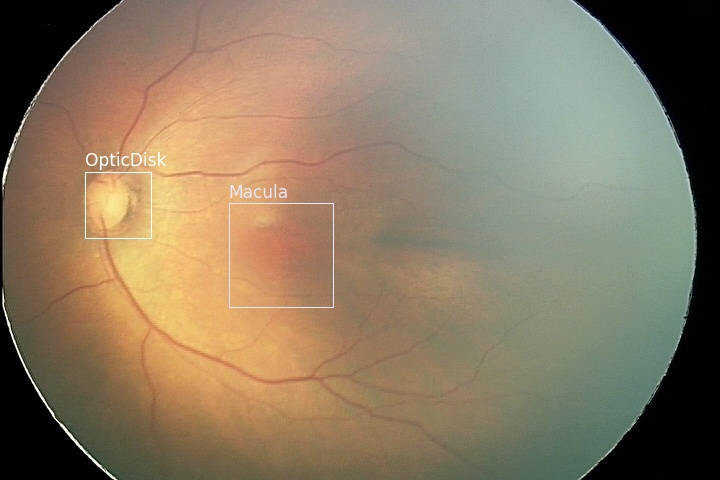Macula: (228, 202, 332, 306)
OpticDisk: (84, 171, 150, 237)
